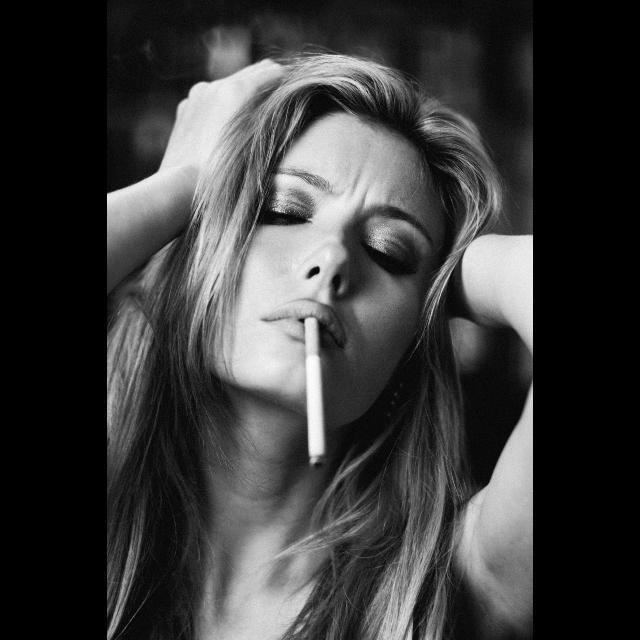rokok: (298, 308, 342, 466)
